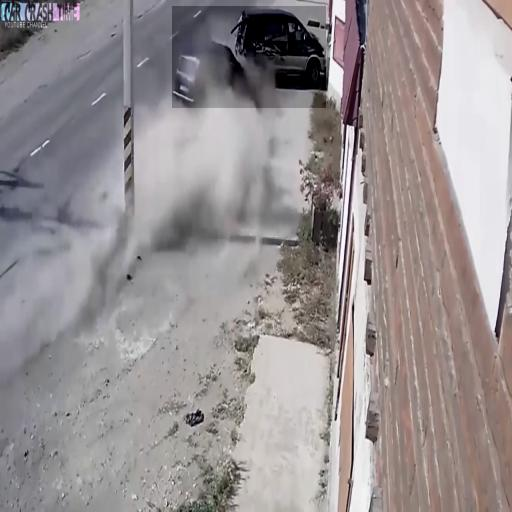小汽车撞小汽车: (172, 6, 326, 108)
